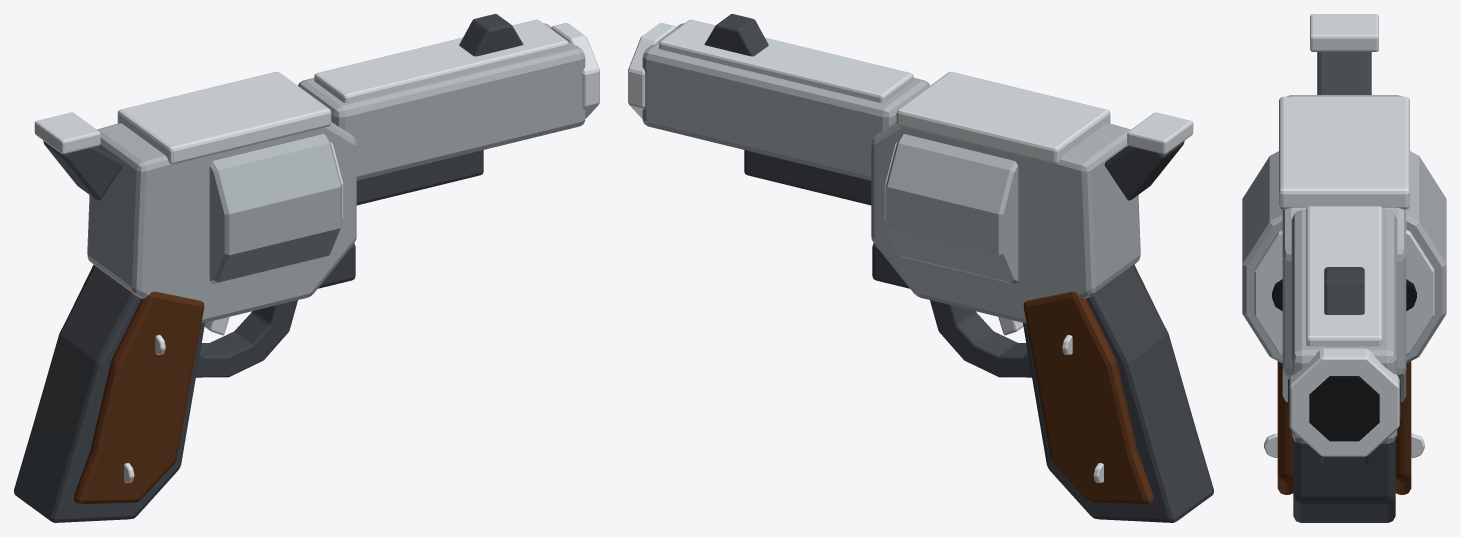
Rendered from lg_duel_revolver_stainless.glb.
The picture shows the model from 3 angles, left to right: view 1: azimuth 30°, elevation 25°; view 2: azimuth 150°, elevation 25°; view 3: azimuth 270°, elevation 25°; orthographic projection. The views are drawn at different scales.
Visible parts, largest first — view 1: frame_heavy_faceted_receiver, barrel_main_octagonal_block, grip_full_tang_steel, walnut_grip_panel_left, cylinder_12sided_body, frame_top_bright_rib, barrel_top_highlight_strip, trigger_guard_faceted, barrel_underlug, hammer_spur, hammer_cross_hatch_cap, front_sight (+2 smaller); view 2: frame_heavy_faceted_receiver, barrel_main_octagonal_block, grip_full_tang_steel, walnut_grip_panel_right, cylinder_12sided_body, frame_top_bright_rib, barrel_top_highlight_strip, trigger_guard_faceted, barrel_underlug, hammer_spur, hammer_cross_hatch_cap, front_sight (+2 smaller); view 3: frame_top_bright_rib, barrel_top_highlight_strip, cylinder_12sided_body, grip_full_tang_steel, muzzle_bright_lip, barrel_main_octagonal_block, cylinder_front_bright_cap, frame_heavy_faceted_receiver, muzzle_dark_bore, hammer_cross_hatch_cap, hammer_spur, front_sight (+7 smaller).
Part boxes in pixels (x1=…): frame_heavy_faceted_receiver: x1=87, y1=122, x2=356, y2=323; barrel_main_octagonal_block: x1=298, y1=23, x2=585, y2=180; grip_full_tang_steel: x1=14, y1=265, x2=204, y2=522; walnut_grip_panel_left: x1=73, y1=291, x2=204, y2=504; cylinder_12sided_body: x1=209, y1=134, x2=341, y2=283; frame_top_bright_rib: x1=117, y1=71, x2=331, y2=164; barrel_top_highlight_strip: x1=314, y1=19, x2=568, y2=102; trigger_guard_faceted: x1=196, y1=300, x2=297, y2=377; barrel_underlug: x1=356, y1=150, x2=483, y2=205; hammer_spur: x1=43, y1=141, x2=123, y2=200; hammer_cross_hatch_cap: x1=34, y1=112, x2=100, y2=154; front_sight: x1=459, y1=14, x2=523, y2=56; frame_heavy_faceted_receiver: x1=871, y1=122, x2=1140, y2=323; barrel_main_octagonal_block: x1=642, y1=23, x2=929, y2=180; grip_full_tang_steel: x1=1023, y1=265, x2=1213, y2=522; walnut_grip_panel_right: x1=1023, y1=291, x2=1154, y2=504; cylinder_12sided_body: x1=886, y1=134, x2=1018, y2=283; frame_top_bright_rib: x1=896, y1=71, x2=1110, y2=164; barrel_top_highlight_strip: x1=659, y1=19, x2=913, y2=102; trigger_guard_faceted: x1=930, y1=300, x2=1031, y2=377; barrel_underlug: x1=744, y1=150, x2=871, y2=205; hammer_spur: x1=1104, y1=141, x2=1184, y2=200; hammer_cross_hatch_cap: x1=1127, y1=112, x2=1193, y2=154; front_sight: x1=704, y1=14, x2=768, y2=56; frame_top_bright_rib: x1=1279, y1=96, x2=1409, y2=209; barrel_top_highlight_strip: x1=1306, y1=206, x2=1382, y2=346; cylinder_12sided_body: x1=1242, y1=151, x2=1446, y2=363; grip_full_tang_steel: x1=1293, y1=438, x2=1395, y2=522; muzzle_bright_lip: x1=1289, y1=348, x2=1399, y2=456; barrel_main_octagonal_block: x1=1291, y1=210, x2=1397, y2=443; cylinder_front_bright_cap: x1=1254, y1=229, x2=1434, y2=354; frame_heavy_faceted_receiver: x1=1282, y1=95, x2=1406, y2=401; muzzle_dark_bore: x1=1309, y1=376, x2=1379, y2=441; hammer_cross_hatch_cap: x1=1310, y1=14, x2=1378, y2=51; hammer_spur: x1=1317, y1=52, x2=1371, y2=94; front_sight: x1=1324, y1=267, x2=1364, y2=314.
Size of the model in its own units: 1.05 by 0.7152 by 0.2801.
